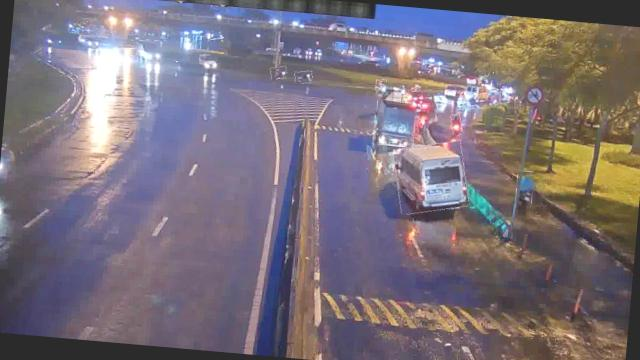Bike: (514, 172, 534, 207), (451, 114, 464, 136), (294, 70, 314, 84), (270, 66, 286, 80), (376, 80, 388, 94)
Bus: (390, 138, 470, 217)
Truck: (372, 100, 418, 148), (178, 49, 218, 74), (136, 39, 162, 64)
